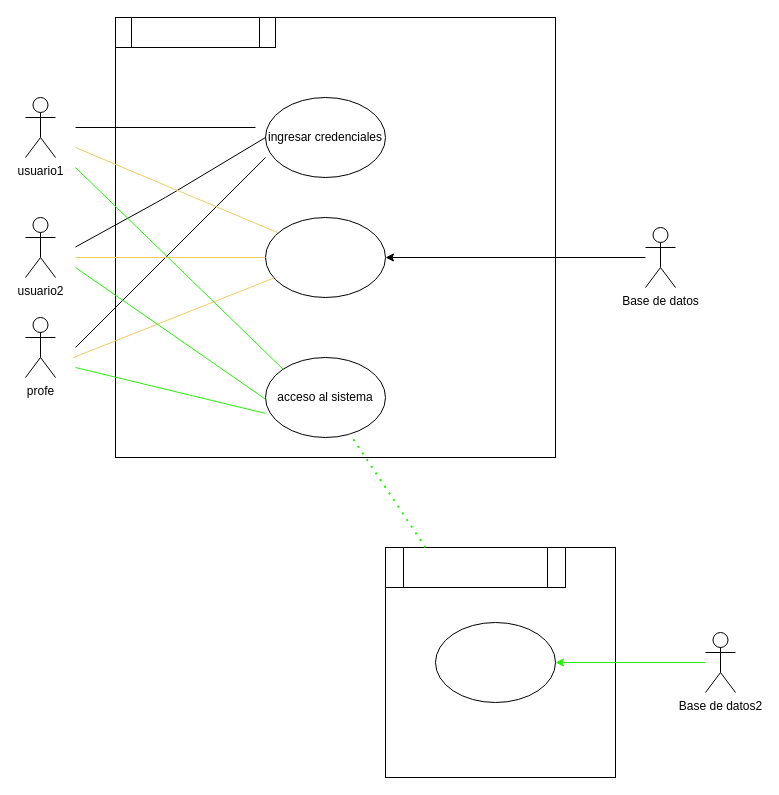
Image size: 779x795. Some labels were removed from this diagram. The centre of each missing label's shape, as x and y in pixels:
"Formulario de coordenadas" belongs at point 495,662.
"Login" belongs at point 195,32.
"Sistema" belongs at point 475,567.
"validar datos" belongs at point 325,257.
